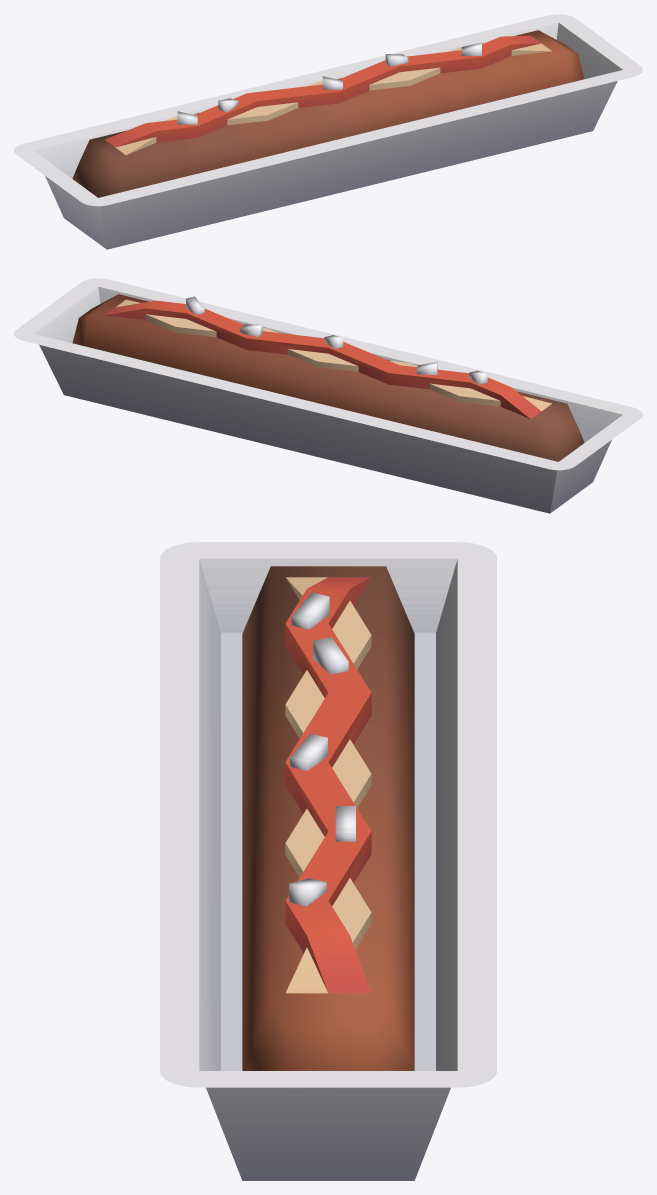
The model's file is frikandel-speciaal.glb.
3 renders of one model, top to bottom at view 1: azimuth 30°, elevation 25°; view 2: azimuth 150°, elevation 25°; view 3: azimuth 270°, elevation 25°, orthographic. The views are drawn at different scales.
Parts seen in each view (by area): view 1: frikandel-speciaal, frikandel, sauce-onions; view 2: frikandel-speciaal, frikandel, sauce-onions; view 3: frikandel-speciaal, frikandel, sauce-onions.
Boxes of the visible parts, x1,y1,x2,y2 form: frikandel-speciaal: (14, 14, 642, 249); frikandel: (72, 30, 584, 197); sauce-onions: (105, 35, 551, 155); frikandel-speciaal: (14, 278, 642, 513); frikandel: (72, 294, 584, 461); sauce-onions: (105, 296, 551, 419); frikandel-speciaal: (160, 542, 496, 1180); frikandel: (242, 566, 414, 1070); sauce-onions: (285, 577, 371, 993).
Size of the model in its own units: 0.636 by 0.1087 by 0.1661.
Materials: 1 (1 with a texture image).
